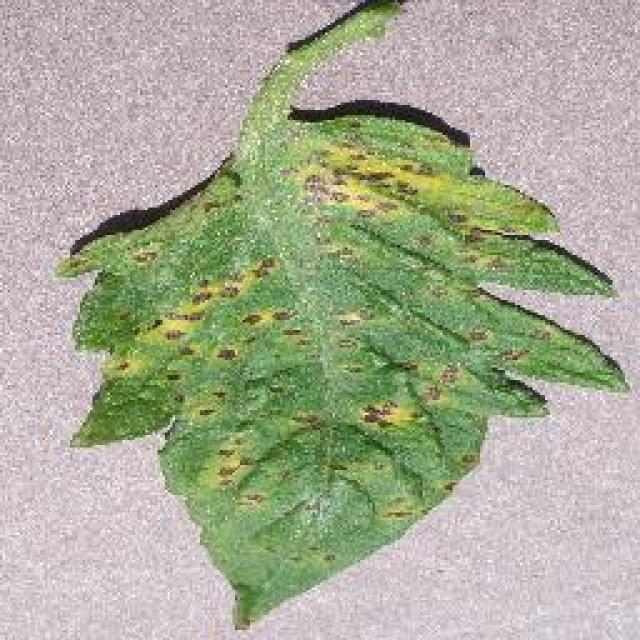Tomato___Septoria_leaf_spot: (60, 0, 622, 625)
